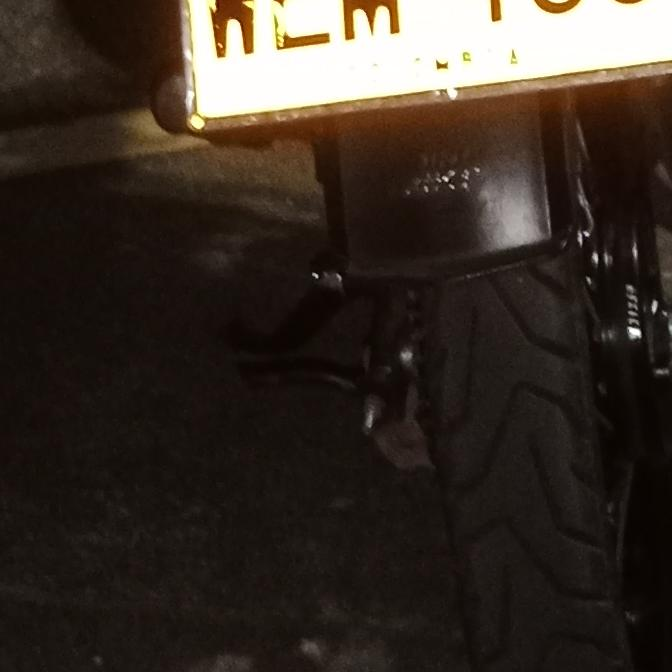plates: (176, 0, 672, 148)
